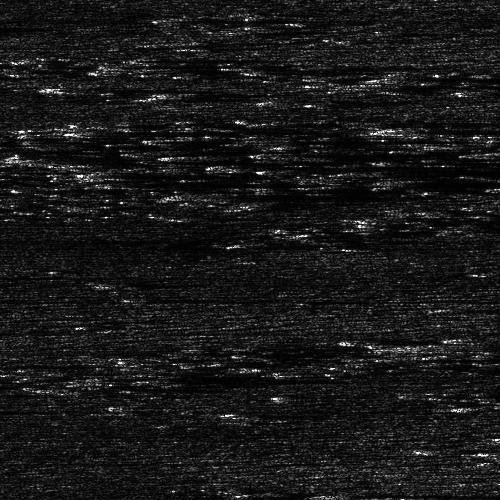object: (331, 336, 488, 355), (211, 148, 336, 157), (64, 162, 127, 179), (341, 125, 446, 134), (146, 190, 229, 199), (428, 448, 500, 455), (448, 147, 500, 156), (36, 84, 99, 91), (302, 491, 355, 498), (42, 127, 105, 132), (85, 180, 148, 185), (129, 376, 170, 383), (443, 335, 500, 340), (459, 87, 500, 92), (53, 384, 94, 389), (492, 434, 500, 439)
shadow: (95, 162, 278, 179), (274, 148, 500, 157), (410, 336, 500, 355), (188, 190, 375, 199), (150, 376, 330, 383), (329, 491, 474, 498), (67, 84, 203, 91), (117, 180, 299, 185), (394, 125, 495, 134), (74, 127, 209, 132), (0, 380, 34, 387), (74, 384, 117, 389), (475, 448, 500, 455), (480, 87, 500, 92)
